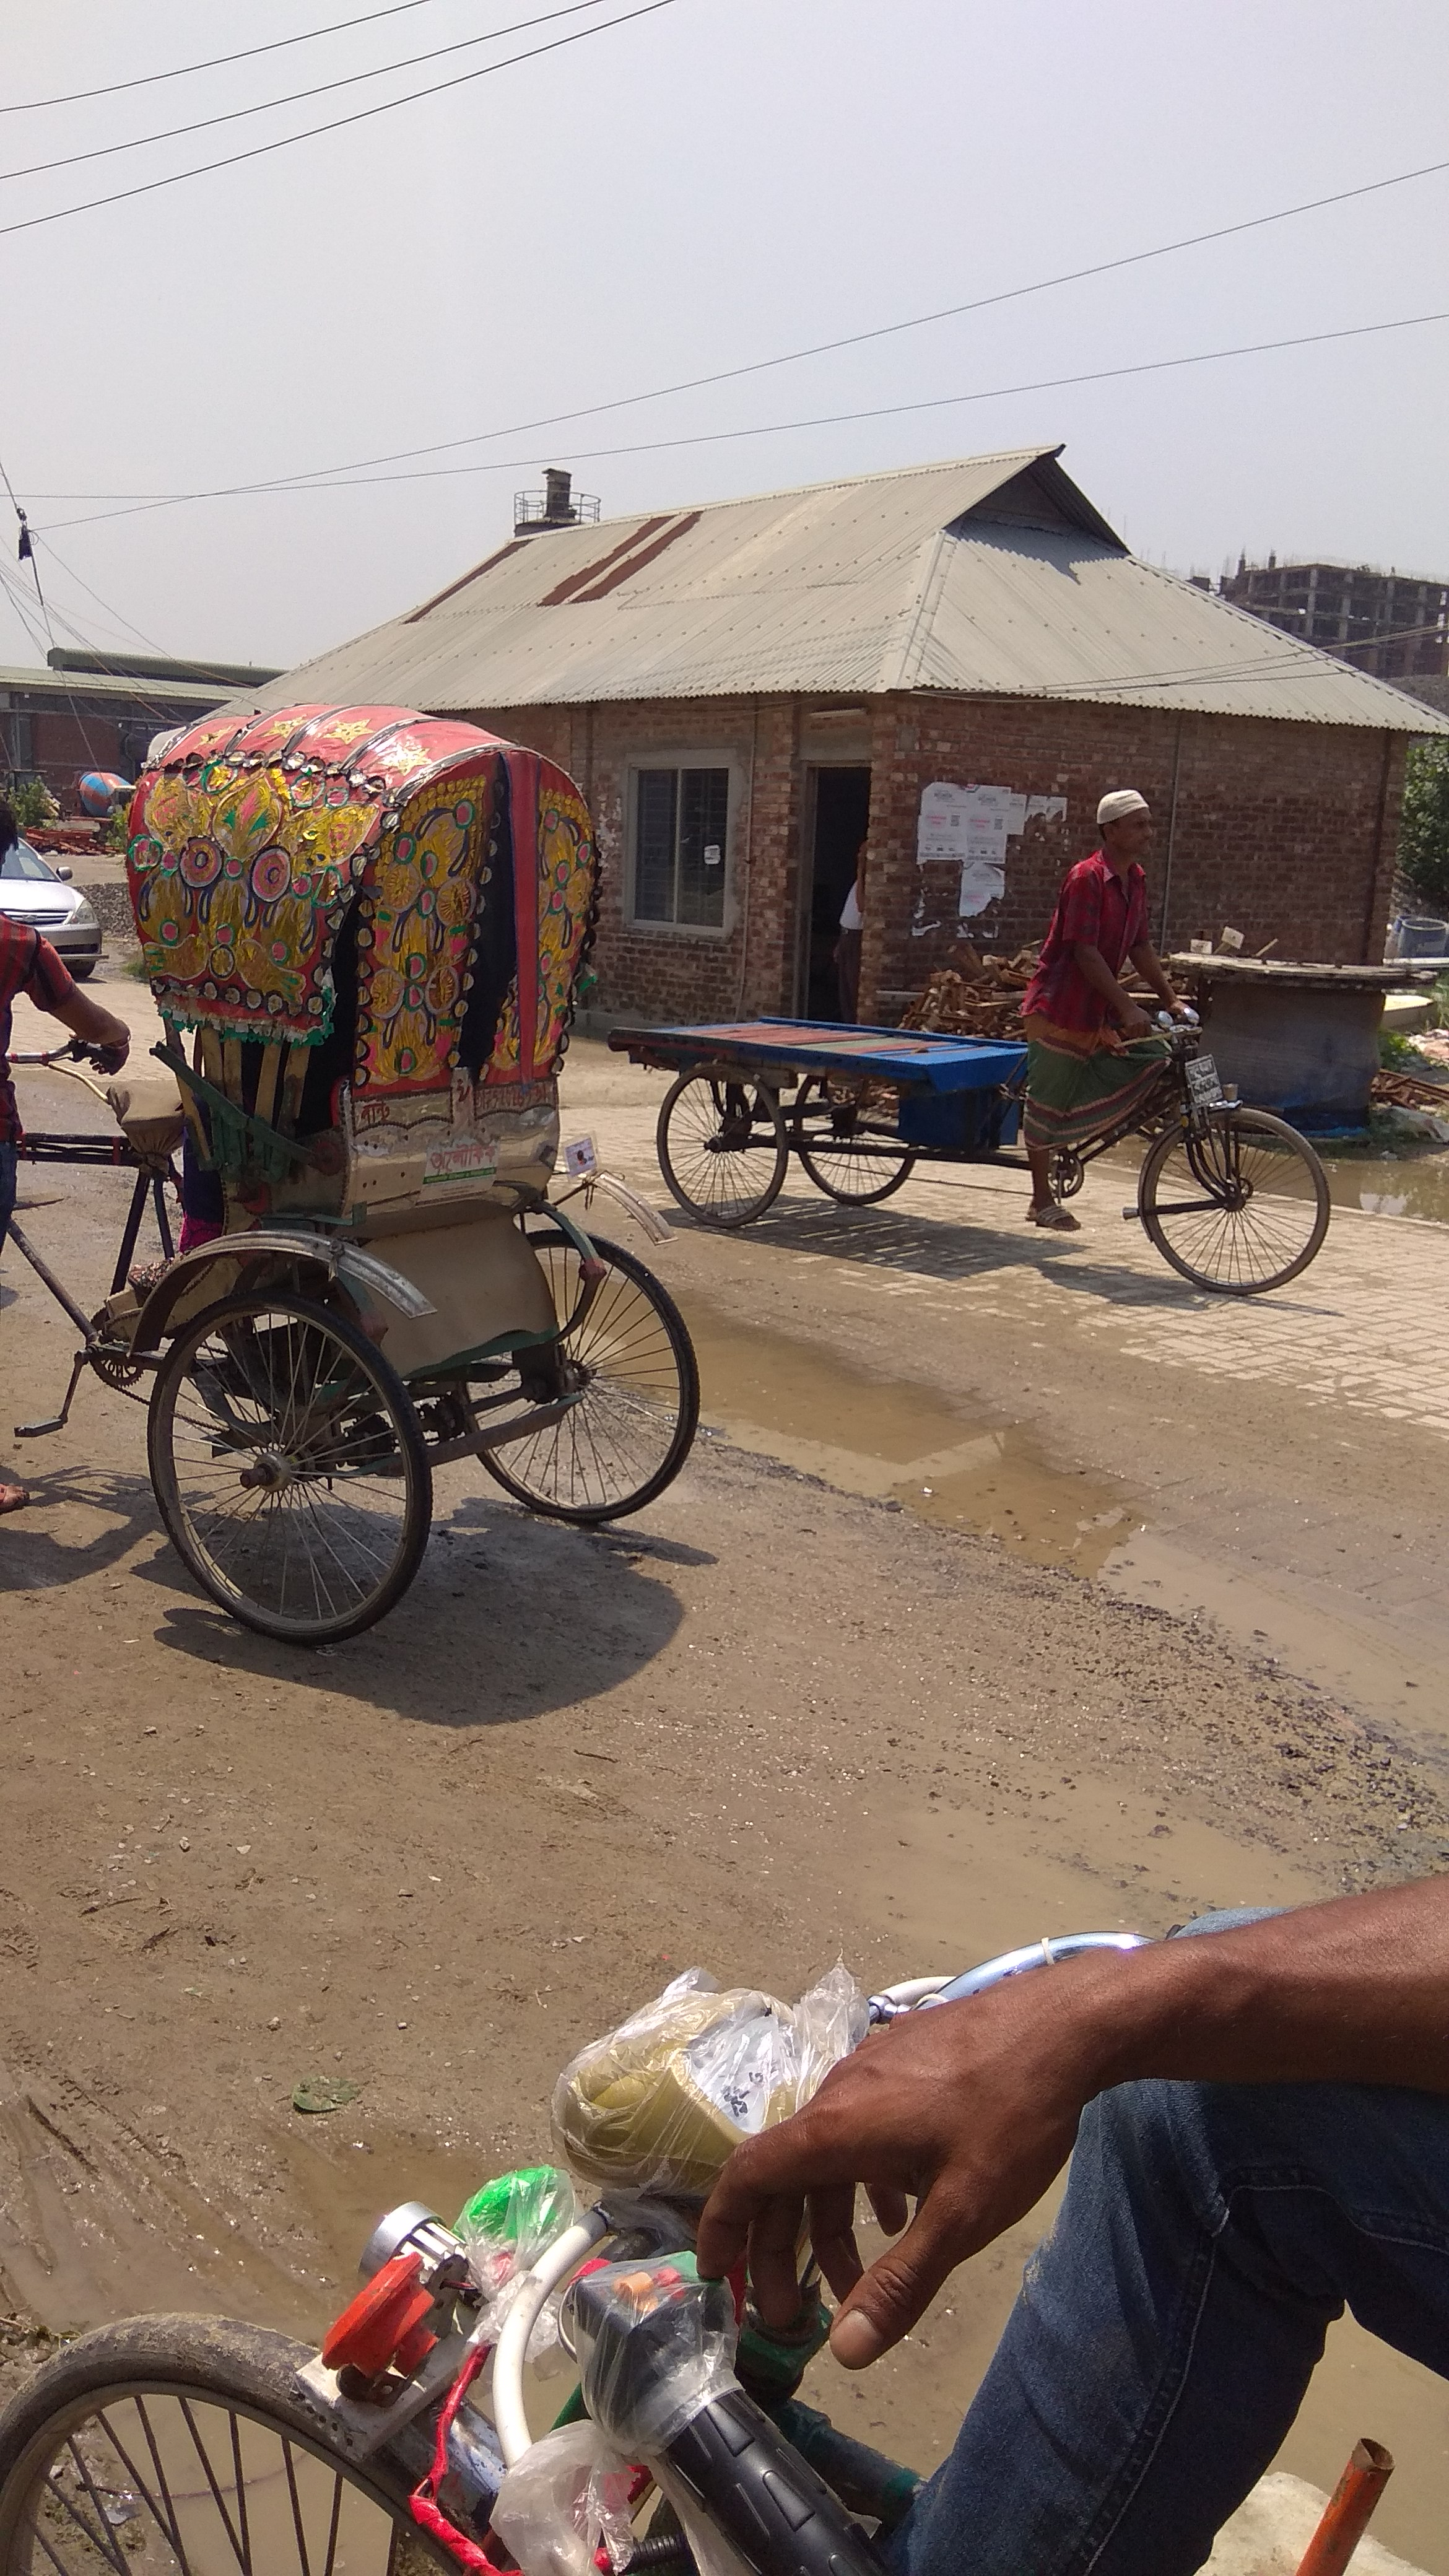Rickshaw: (0, 1861, 1447, 2539), (12, 676, 711, 1647)
